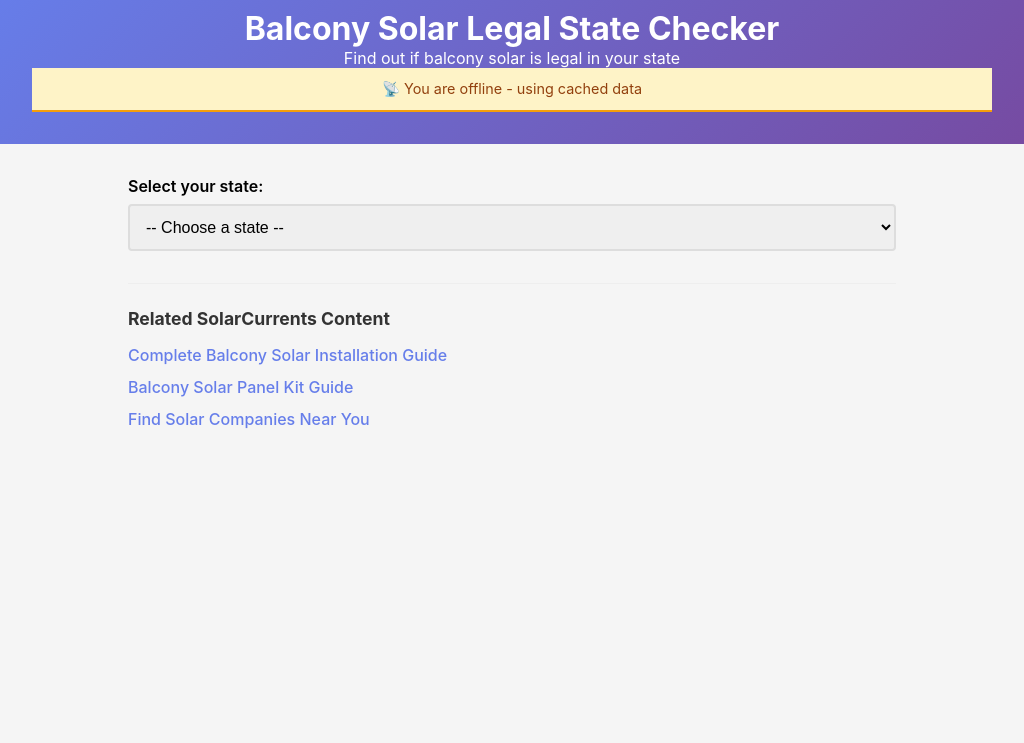
it: SolarCurrents Integration › CTA Display and Functionality › displays copy-to-clipboard button as shareable CTA
This screenshot has width=1024, height=743.
// Select Washington
Select "Washington" in the dropdown. click: (512, 228)
box: [128,204,896,251]
(page scrolled)
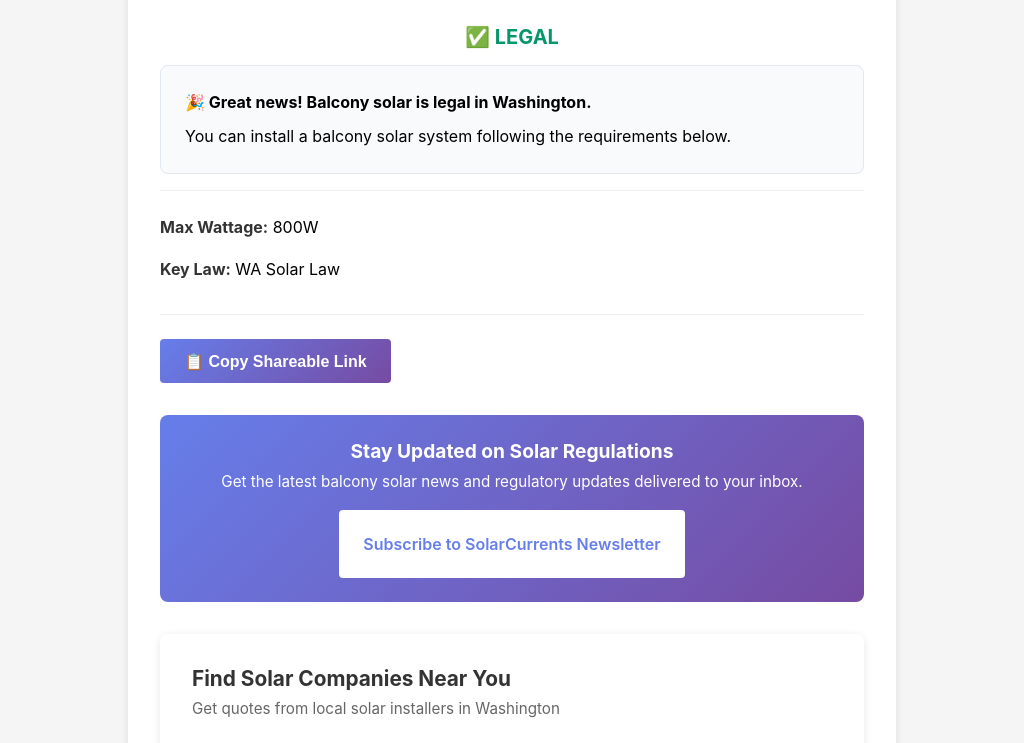
Expected: the button with test id "copy-url-button" shows "Copy Shareable Link", [160,339,391,383]
